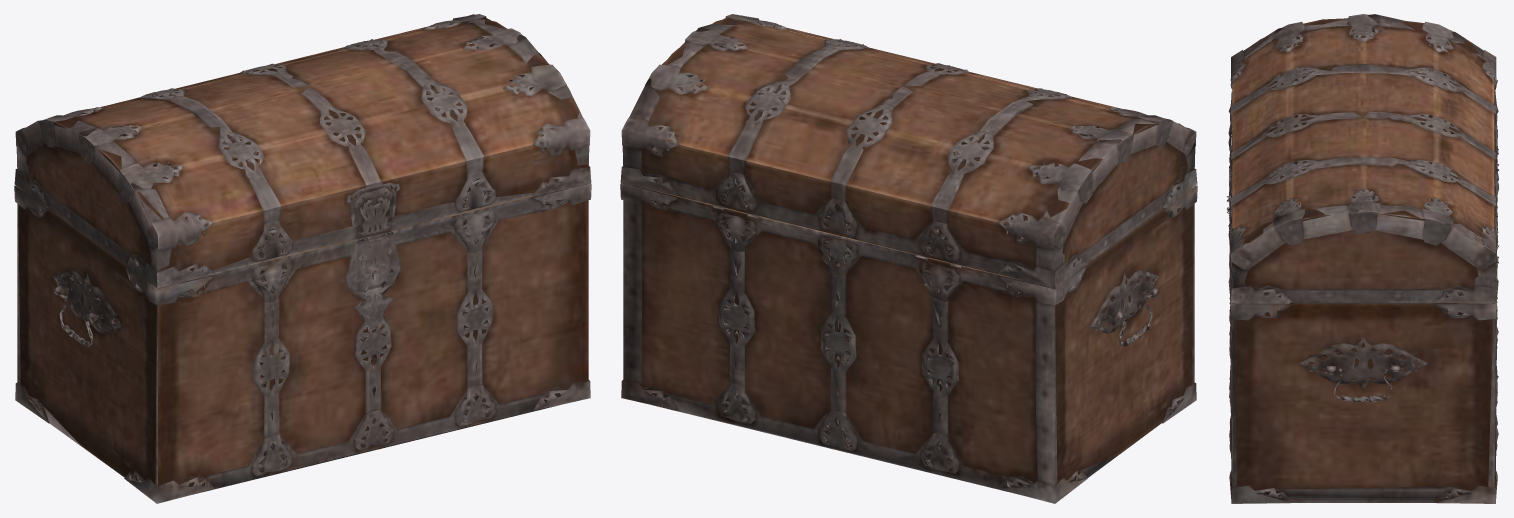
Rendered from treasure_chest.glb.
3 views of the same model, side by side, from view 1: azimuth 30°, elevation 25°; view 2: azimuth 150°, elevation 25°; view 3: azimuth 270°, elevation 25° (orthographic). The views are drawn at different scales.
Visible parts, largest first — view 1: treasure_chest_bottom, treasure_chest_lid, treasure_chest_lock; view 2: treasure_chest_bottom, treasure_chest_lid; view 3: treasure_chest_lid, treasure_chest_bottom, treasure_chest_handle_right.
Part boxes in pixels (box(x1,y1,x2,y2)): treasure_chest_bottom: box(14, 183, 591, 503); treasure_chest_lid: box(14, 14, 591, 288); treasure_chest_lock: box(348, 234, 400, 322); treasure_chest_bottom: box(620, 183, 1197, 503); treasure_chest_lid: box(620, 14, 1197, 288); treasure_chest_lid: box(1227, 14, 1498, 303); treasure_chest_bottom: box(1229, 129, 1498, 503); treasure_chest_handle_right: box(1324, 368, 1402, 402).
Bounding box in the file's own units: 0.9482 × 0.6197 × 0.5226.
1 material, 1 textured.
